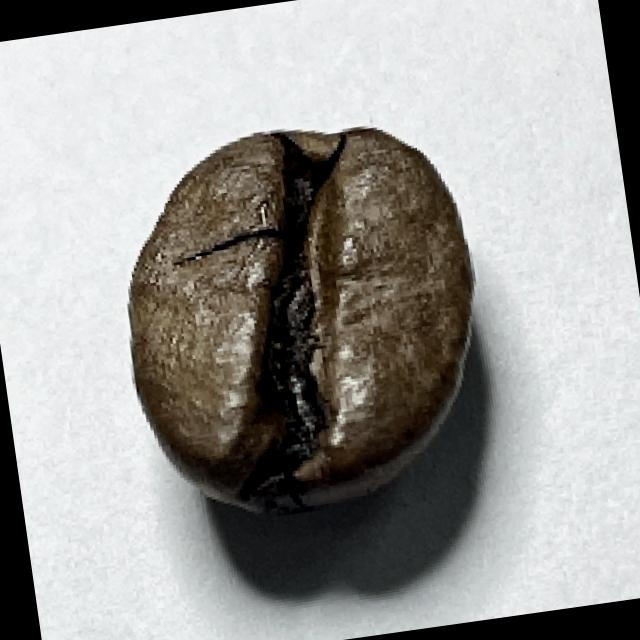bean: (101, 104, 504, 533)
